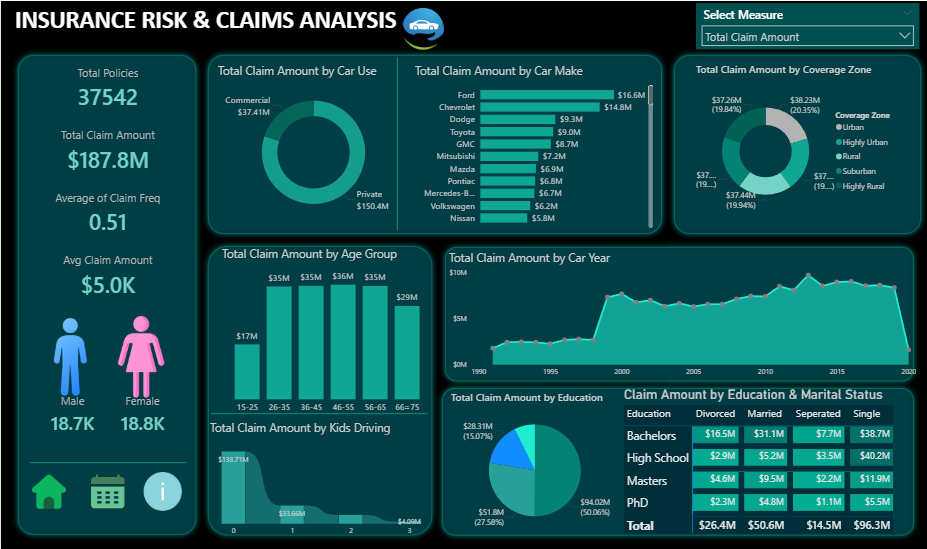

The page's visual inventory and layout, read from the dashboard file:
{"tool":"powerbi","page":{"name":"Page 1","canvas":[1600,950],"ordinal":0},"visuals":[{"type":"shape","box":[19,83.6,328.7,849.3],"z":0},{"type":"textbox","box":[18.5,0,690.4,62.2],"z":1000},{"type":"cardVisual","fields":{"Data":["insurance_data_car.Total Policies","insurance_data_car.Total Claim Amount","Avg(insurance_data_car.Claim Freq)","insurance_data_car.Avg Claim Amount"]},"box":[49.4,83.6,269.8,459.8],"z":2000},{"type":"cardVisual","fields":{"Data":["insurance_data_car.Male Count","insurance_data_car.Female Count"]},"box":[49.4,657.4,269.8,110.2],"z":3000},{"type":"shape","box":[347.2,82.9,804.9,329.9],"z":4000},{"type":"slicer","fields":{"Values":["Select Measure.Select Measure"]},"box":[1200.8,3.8,385.7,79.8],"z":5000},{"type":"donutChart","fields":{"Y":["insurance_data_car.Total Claim Amount"],"Category":["insurance_data_car.Car Use"]},"box":[369.6,105.4,340.3,285],"z":6000},{"type":"clusteredBarChart","fields":{"Y":["insurance_data_car.Total Claim Amount"],"Category":["insurance_data_car.Car Make"]},"box":[709.9,105.4,421.5,291.9],"z":7000},{"type":"shape","box":[1152.1,82.9,447.4,329.9],"z":8000},{"type":"donutChart","fields":{"Y":["insurance_data_car.Total Claim Amount"],"Category":["insurance_data_car.Coverage Zone"]},"box":[1195.3,105.4,362.7,285],"z":9000},{"type":"shape","box":[347.7,412.3,408,520.6],"z":10000},{"type":"columnChart","fields":{"Y":["insurance_data_car.Total Claim Amount"],"Category":["insurance_data_car.Age Group"]},"box":[376.5,421.5,374.8,300.5],"z":11000},{"type":"ribbonChart","fields":{"Y":["insurance_data_car.Total Claim Amount"],"Category":["insurance_data_car.Kids Driving"]},"box":[355.3,722,395.2,210.9],"z":12000},{"type":"shape","box":[756.2,414.2,830.3,252.7],"z":13000},{"type":"areaChart","fields":{"Y":["insurance_data_car.Total Claim Amount"],"Category":["insurance_data_car.Car Year"]},"box":[768.6,428.4,817,229.7],"z":14000},{"type":"shape","box":[750.5,657.4,836,275.5],"z":15000},{"type":"pieChart","fields":{"Y":["insurance_data_car.Total Claim Amount"],"Category":["insurance_data_car.Education"]},"box":[771.4,672.6,300.2,254.6],"z":16000},{"type":"pivotTable","title":"Claim Amount by Education & Marital Status","fields":{"Rows":["insurance_data_car.Education"],"Columns":["insurance_data_car.Marital Status"],"Values":["insurance_data_car.Total Claim Amount"]},"box":[1071.6,666.9,501.6,260.3],"z":17000},{"type":"shape","box":[657.4,96.9,53.2,300.2],"z":18000},{"type":"shape","box":[49.4,767.6,269.8,60.8],"z":19000},{"type":"shape","box":[362.9,682.1,374.3,60.8],"z":20000},{"type":"image","box":[657.4,11.4,142.5,72.2],"z":20001},{"type":"image","box":[36.1,543.4,167.2,140.6],"z":20002},{"type":"image","box":[163.4,543.4,155.8,140.6],"z":20003},{"type":"image","box":[36.1,813.2,93.1,66.5],"z":20004},{"type":"image","box":[142.5,813.2,81.7,66.5],"z":20005},{"type":"image","box":[237.5,813.2,81.7,66.5],"z":20006}]}

Visuals, with their boxes in screenshot pixels (x1, y1, x2, y2), scaled from the page's 1600x950 canvas onto the 927x549 screenshot:
shape: 11, 48, 201, 539
textbox: 11, 0, 411, 36
cardVisual - insurance_data_car.Total Policies x insurance_data_car.Total Claim Amount: 29, 48, 185, 314
cardVisual - insurance_data_car.Male Count x insurance_data_car.Female Count: 29, 380, 185, 444
shape: 201, 48, 667, 239
slicer - Select Measure.Select Measure: 696, 2, 919, 48
donutChart - insurance_data_car.Total Claim Amount x insurance_data_car.Car Use: 214, 61, 411, 226
clusteredBarChart - insurance_data_car.Total Claim Amount x insurance_data_car.Car Make: 411, 61, 656, 230
shape: 667, 48, 926, 239
donutChart - insurance_data_car.Total Claim Amount x insurance_data_car.Coverage Zone: 693, 61, 903, 226
shape: 201, 238, 438, 539
columnChart - insurance_data_car.Total Claim Amount x insurance_data_car.Age Group: 218, 244, 435, 417
ribbonChart - insurance_data_car.Total Claim Amount x insurance_data_car.Kids Driving: 206, 417, 435, 539
shape: 438, 239, 919, 385
areaChart - insurance_data_car.Total Claim Amount x insurance_data_car.Car Year: 445, 248, 919, 380
shape: 435, 380, 919, 539
pieChart - insurance_data_car.Total Claim Amount x insurance_data_car.Education: 447, 389, 621, 536
"Claim Amount by Education & Marital Status" pivotTable: 621, 385, 911, 536
shape: 381, 56, 412, 229
shape: 29, 444, 185, 479
shape: 210, 394, 427, 429
image: 381, 7, 463, 48
image: 21, 314, 118, 395
image: 95, 314, 185, 395
image: 21, 470, 75, 508
image: 83, 470, 130, 508
image: 138, 470, 185, 508
